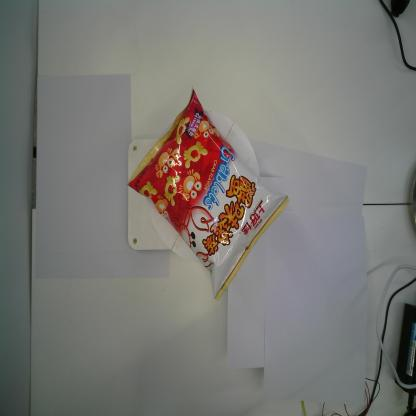Puffed Food: (126, 88, 289, 302)
